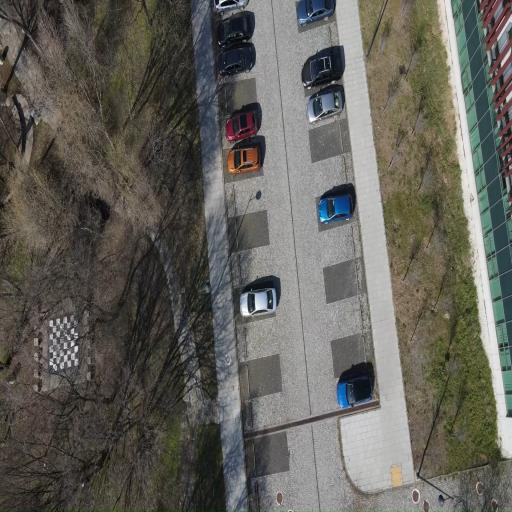person: (302, 49, 342, 89), (307, 90, 343, 123), (337, 375, 372, 408), (217, 15, 251, 46), (240, 288, 276, 317), (219, 45, 253, 75), (319, 193, 353, 223), (296, 0, 335, 26), (226, 111, 258, 141), (227, 147, 260, 173), (214, 0, 248, 15)
